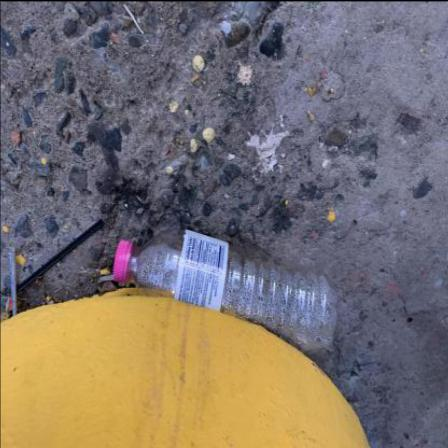Bottle: (114, 229, 338, 351)
Bottle cap: (114, 239, 130, 283)
Straw: (18, 218, 106, 294), (10, 246, 18, 316)
